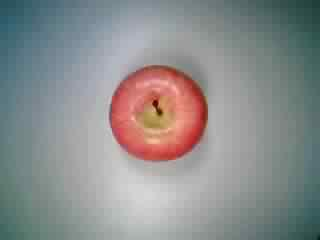apple: (105, 62, 210, 164)
